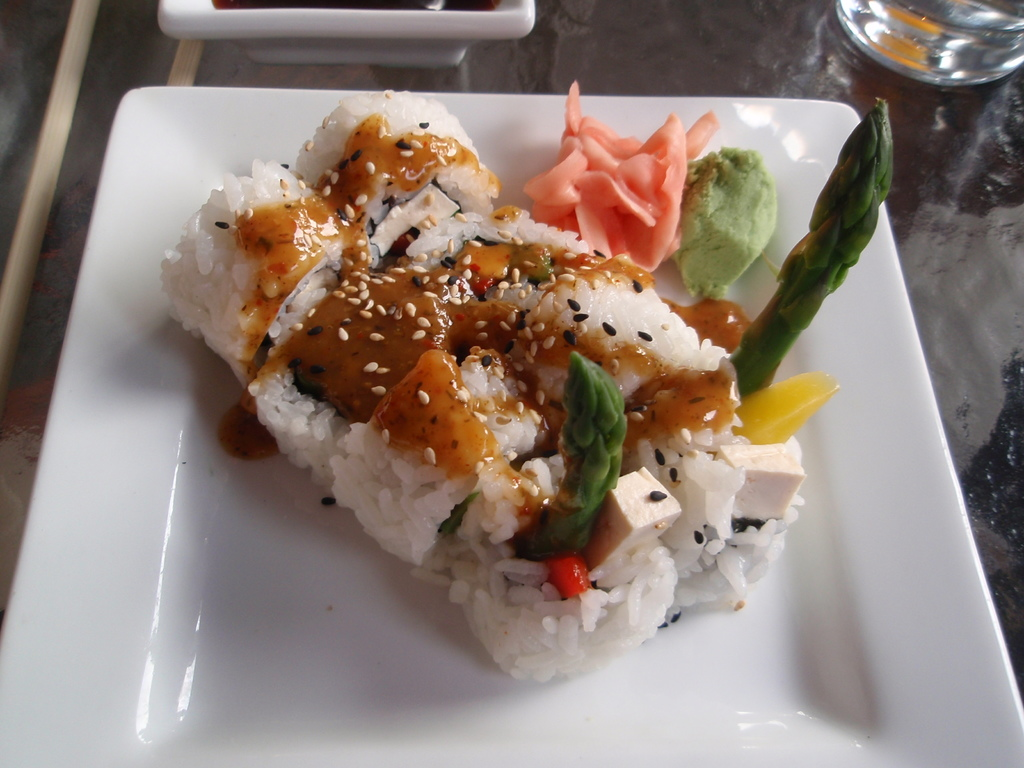sushi: (190, 135, 846, 689)
